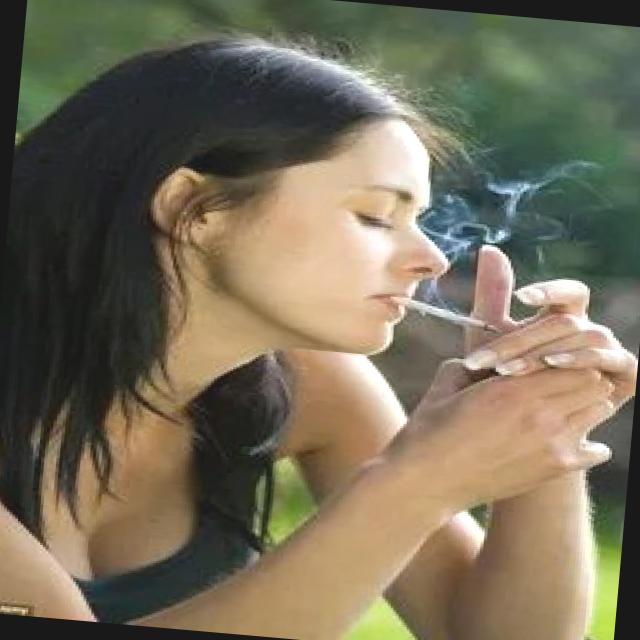cigarette: (372, 287, 531, 342)
